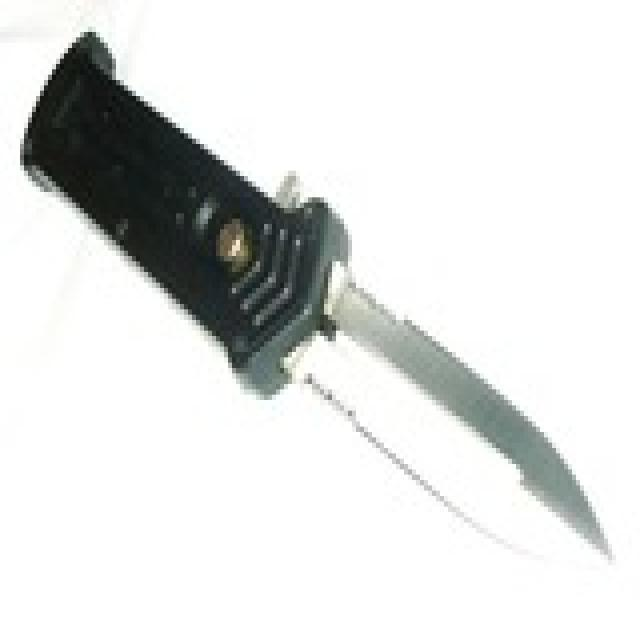Knife: (22, 28, 612, 573)
